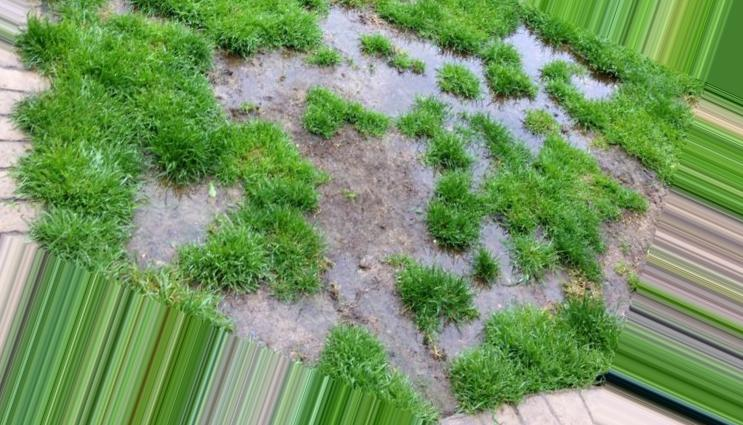patch: (327, 145, 400, 250), (259, 60, 374, 90), (238, 303, 322, 343), (350, 261, 383, 329), (150, 201, 203, 228)
